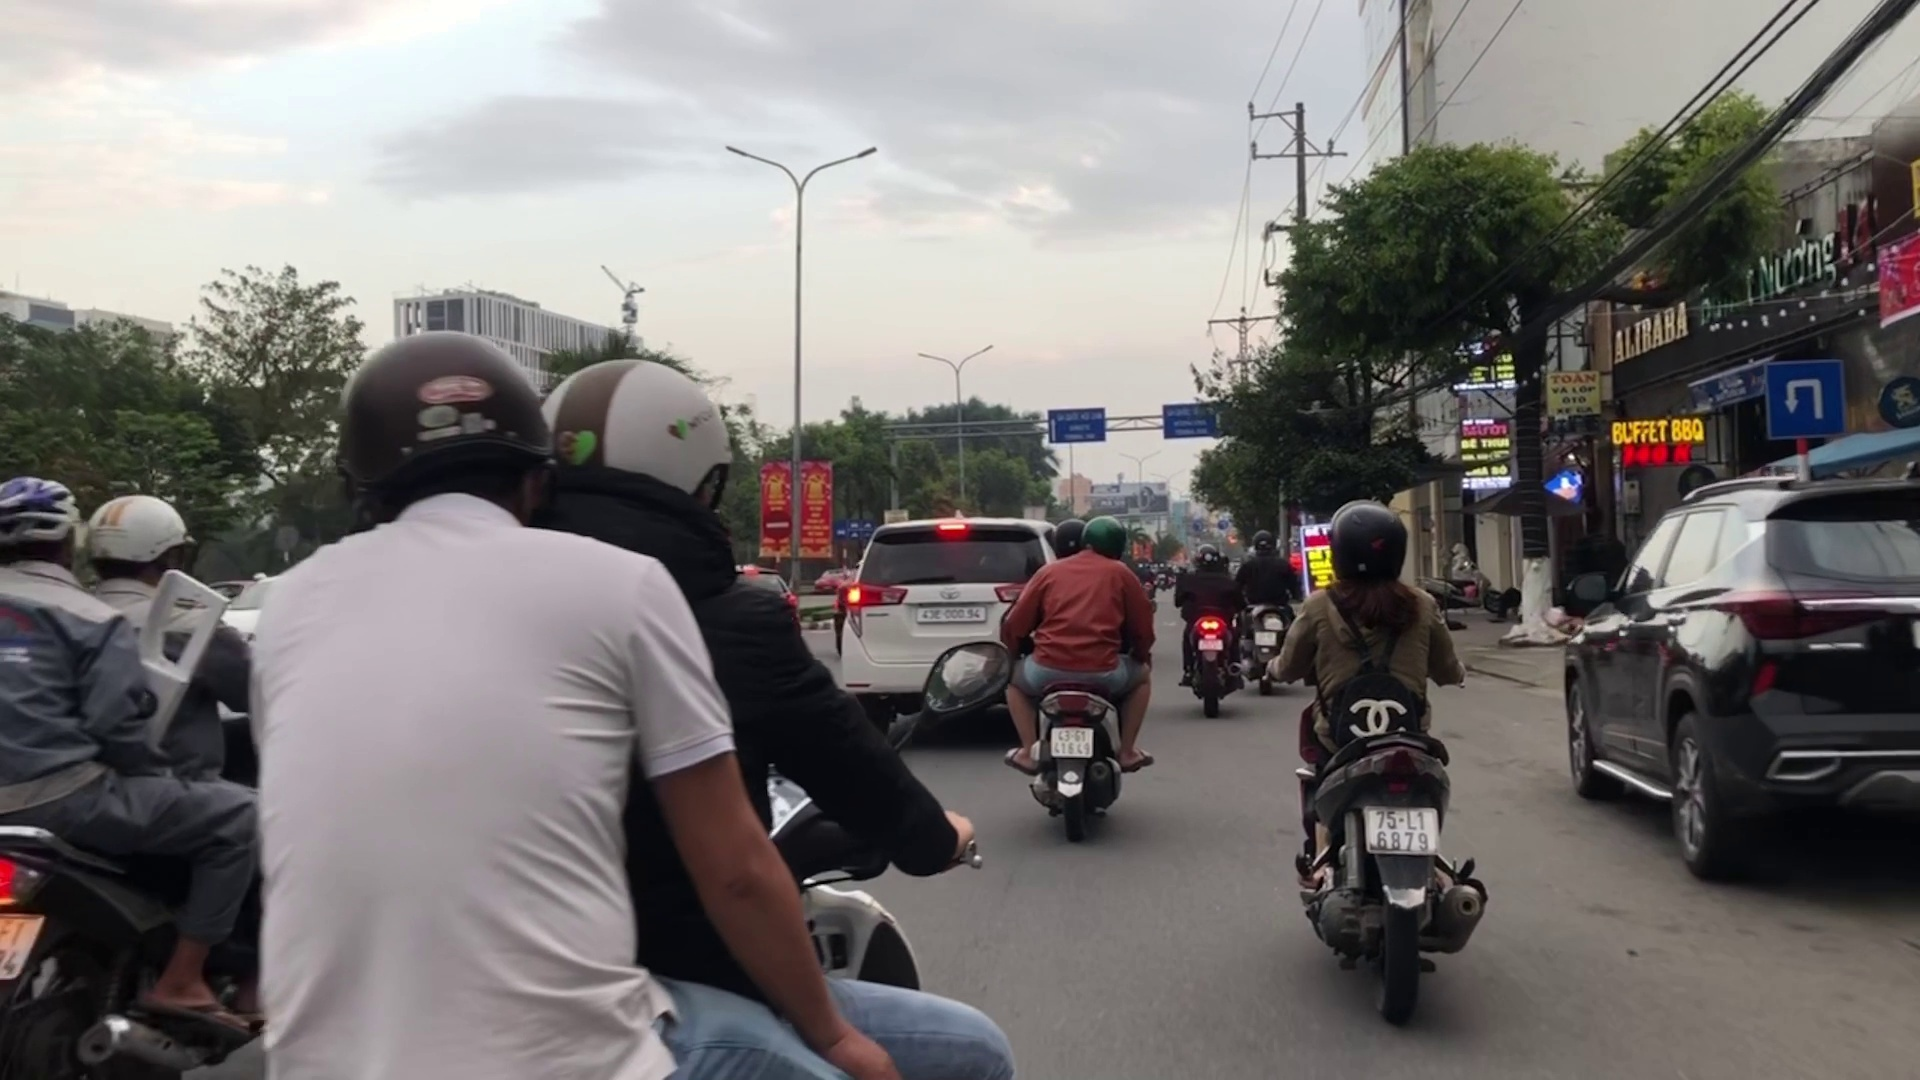Bien khac: (1767, 359, 1846, 436)
